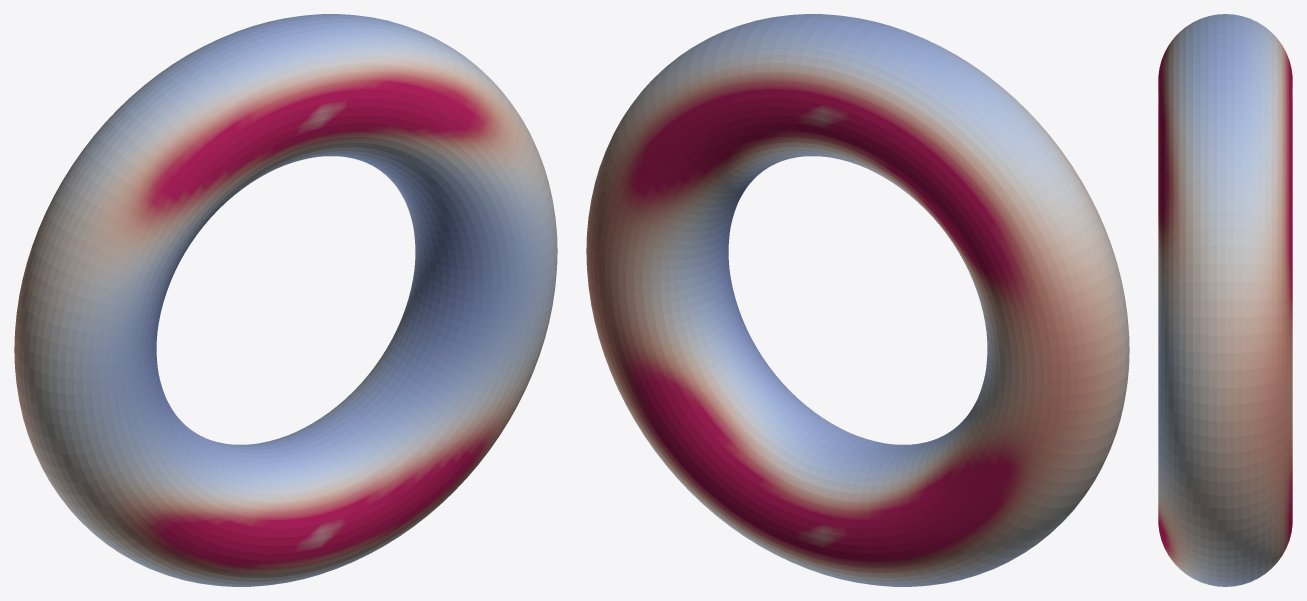
The picture shows the model from 3 angles, left to right: view 1: azimuth 30°, elevation 25°; view 2: azimuth 150°, elevation 25°; view 3: azimuth 270°, elevation 25°; orthographic projection. The views are drawn at different scales.
Visible parts, largest first — view 1: world; view 2: world; view 3: world.
Part boxes in pixels (box(x1,y1,x2,y2)): world: box(14, 14, 557, 586); world: box(586, 14, 1129, 586); world: box(1158, 14, 1292, 586).
Bounding box in the file's own units: 24.4 × 24.4 × 5.72.
